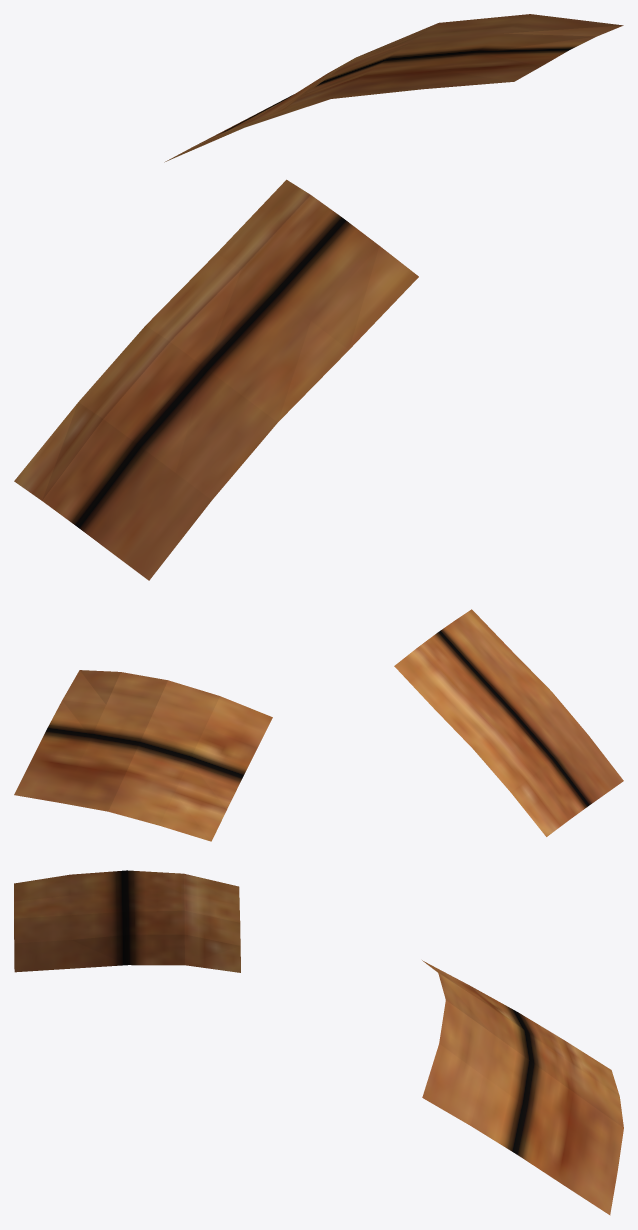
The model's file is house_01_carpets_01.dae.
3 views of the same model, one above another, from view 1: azimuth 30°, elevation 25°; view 2: azimuth 150°, elevation 25°; view 3: azimuth 270°, elevation 25° (orthographic). The views are drawn at different scales.
Visible parts, largest first — view 1: scyth_house_01_carpets_01; view 2: scyth_house_01_carpets_01; view 3: scyth_house_01_carpets_01.
Boxes of the visible parts, x1,y1,x2,y2 form: scyth_house_01_carpets_01: [14, 14, 623, 580]; scyth_house_01_carpets_01: [14, 609, 623, 841]; scyth_house_01_carpets_01: [14, 870, 623, 1215].
Bounding box in the file's own units: 7.17 × 6.25 × 2.35.
